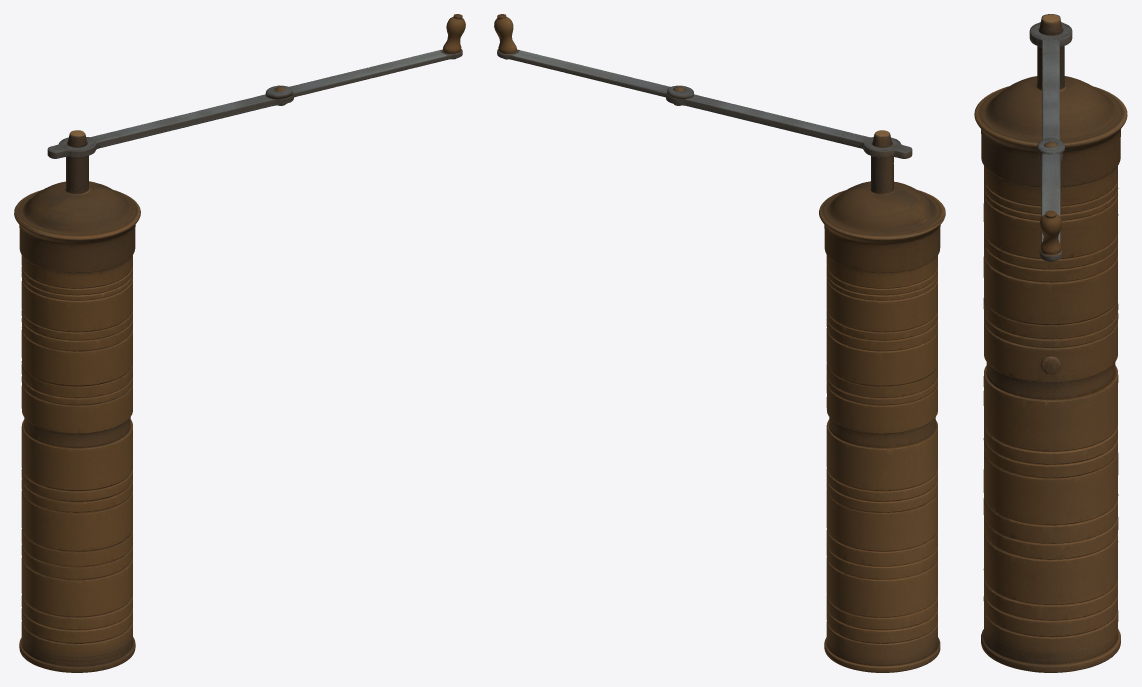
Rendered from mlin.glb.
3 views of the same model, side by side, from view 1: azimuth 30°, elevation 25°; view 2: azimuth 150°, elevation 25°; view 3: azimuth 270°, elevation 25° (orthographic). The views are drawn at different scales.
Size of the model in its own units: 1.63 by 1.9 by 0.4024.
1 material, 1 textured.
